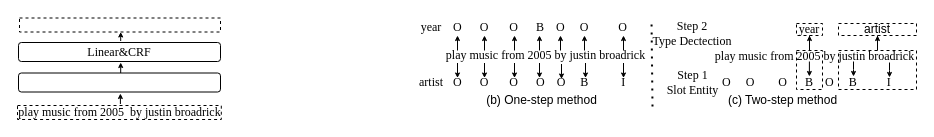
The diagram is 934 pixels wide and 137 high, and some of its shapes have lost their labels. Each missing label, with the centre of its shape:
Encoder: (119,82)
O O O B-year O B-artist I-artist: (119,24)
